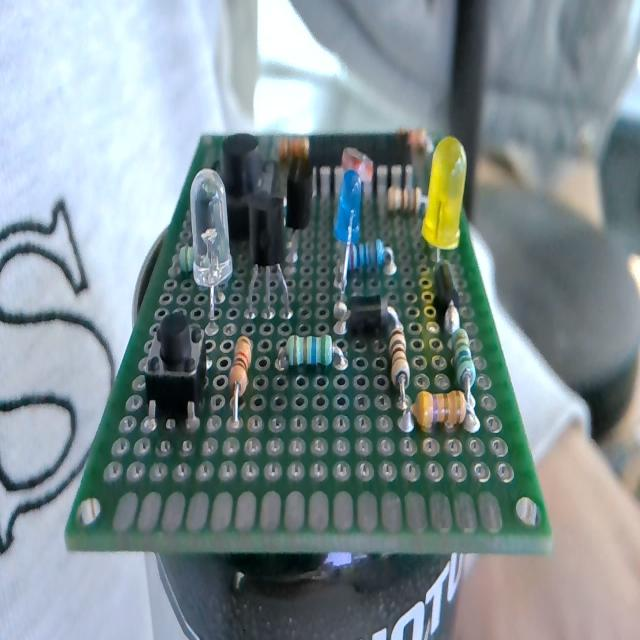diode: (341, 293, 389, 343), (434, 258, 461, 316)
led: (192, 169, 234, 321), (422, 134, 467, 250), (331, 167, 363, 311)
resistor: (450, 326, 479, 431), (388, 318, 414, 430), (338, 236, 403, 278), (410, 389, 468, 429), (228, 334, 252, 420), (286, 334, 334, 367)
switch: (142, 310, 207, 422)
transistor: (245, 192, 292, 320), (283, 156, 317, 267)
